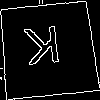K: (22, 25, 63, 75)
